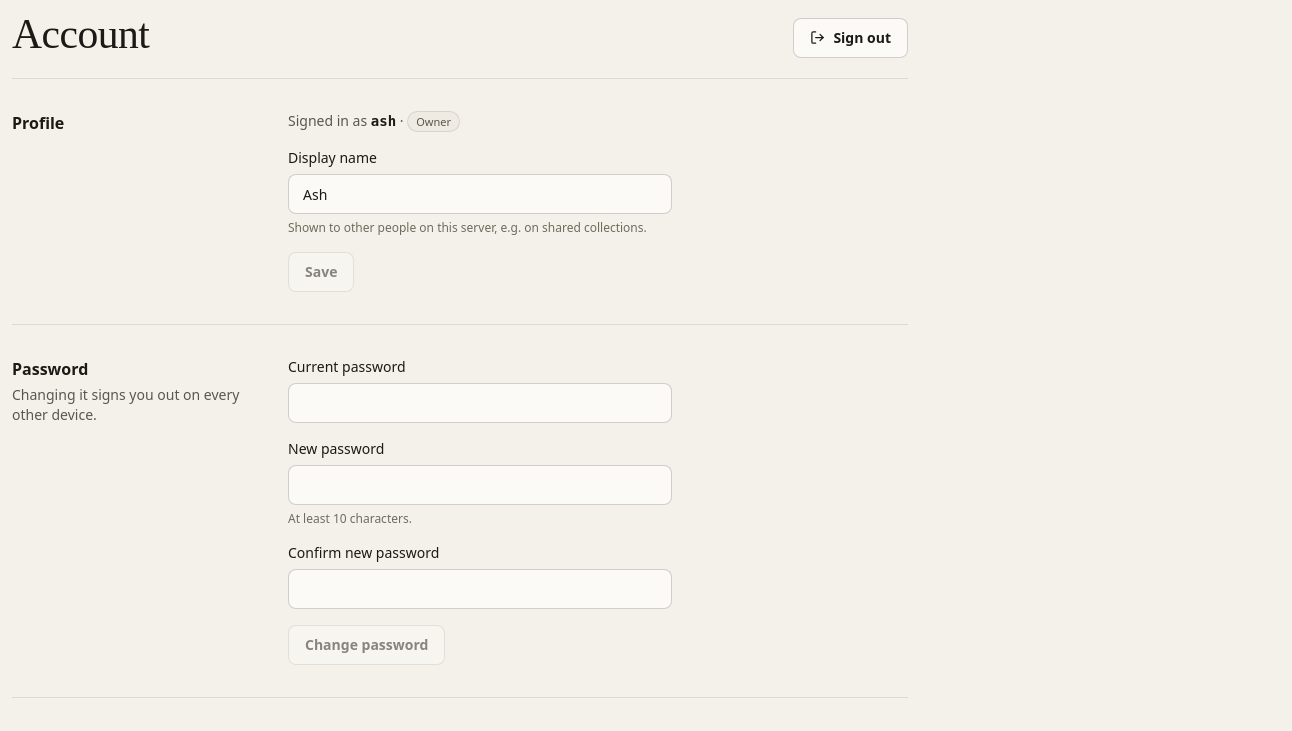
password › shows a wrong current password without signing out
The width and height of the screenshot is (1292, 731).
In the password field labelled "Current password": (480, 404) left=288, top=384, right=672, bottom=424, type "not it at all"
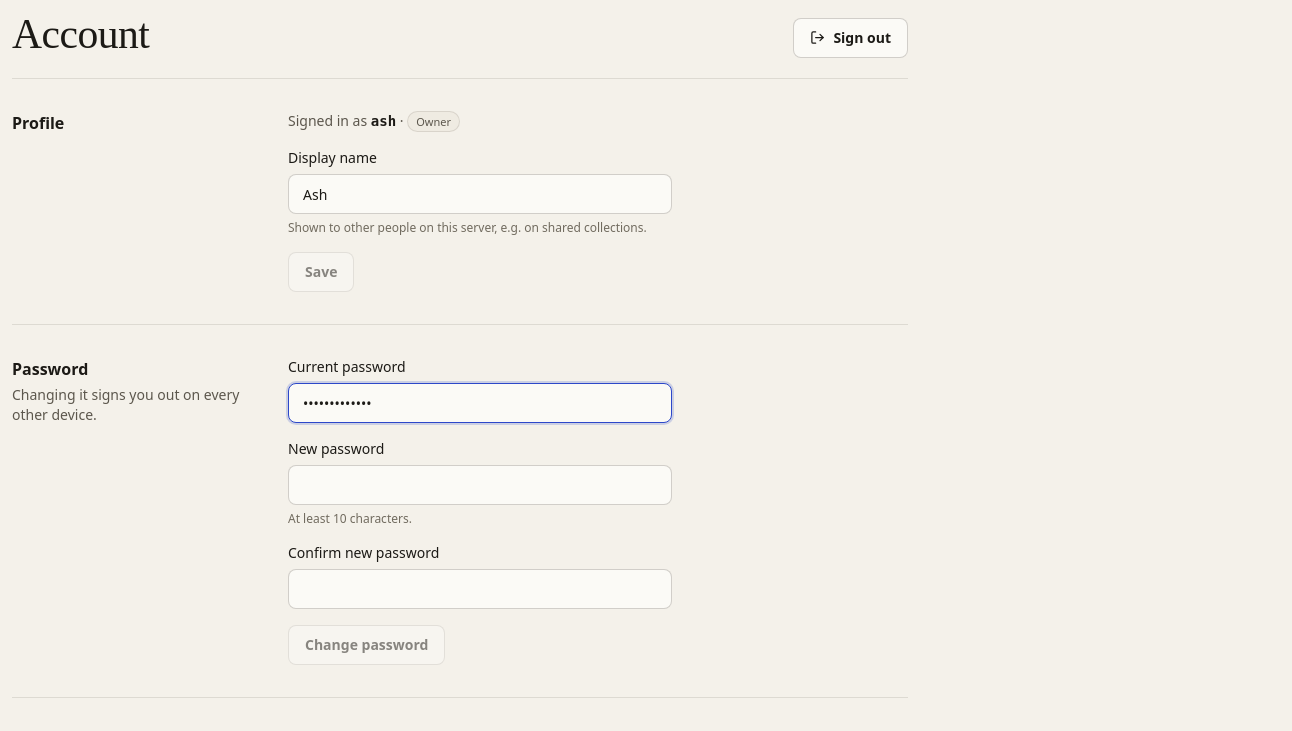
In the password field labelled "New password": (480, 486) left=288, top=466, right=672, bottom=506, type "a much better one"
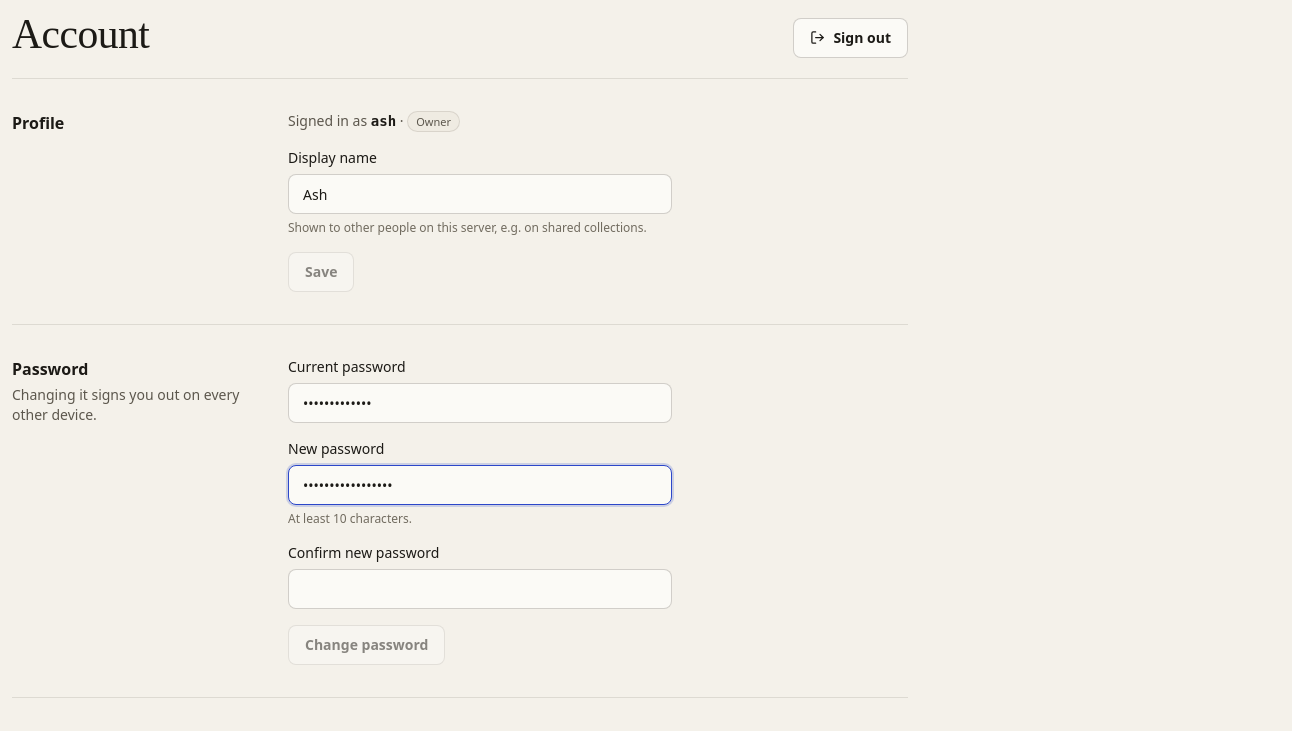
In the password field labelled "Confirm new password": (480, 590) left=288, top=570, right=672, bottom=610, type "a much better one"
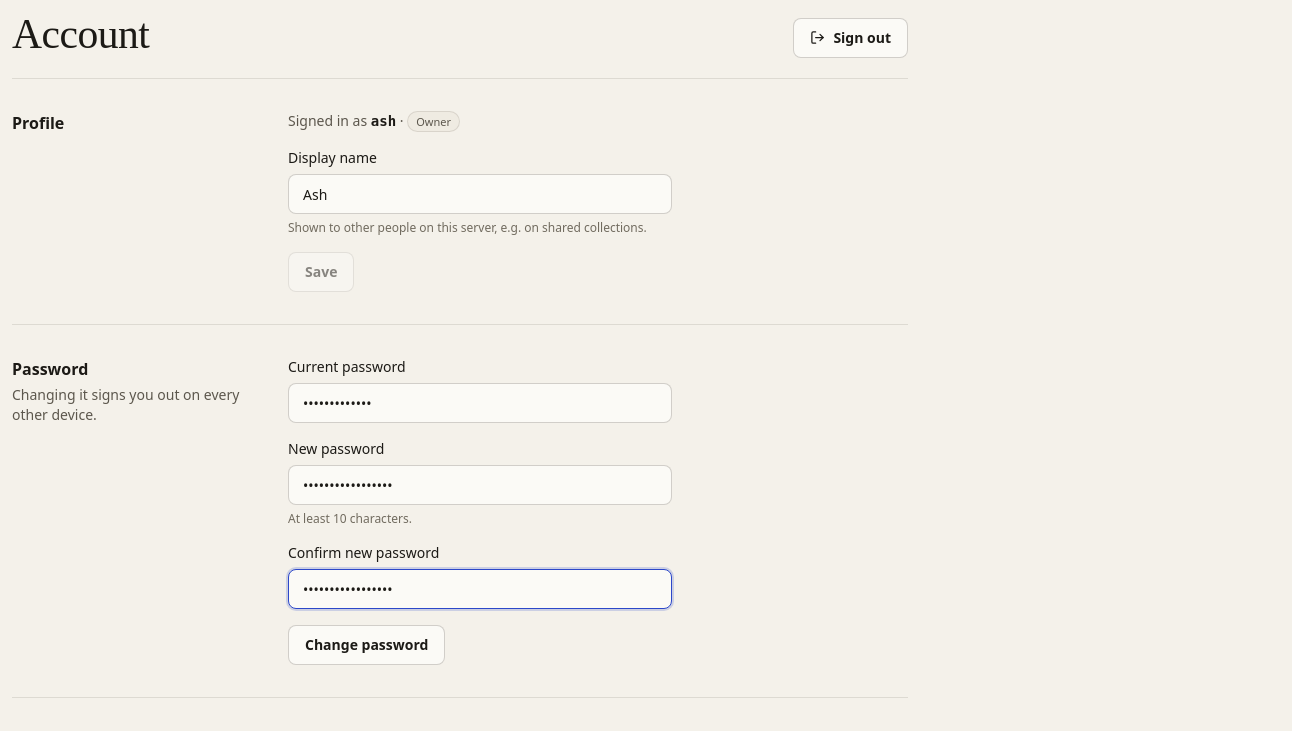
Click the button "Change password": (367, 646) left=288, top=626, right=445, bottom=666
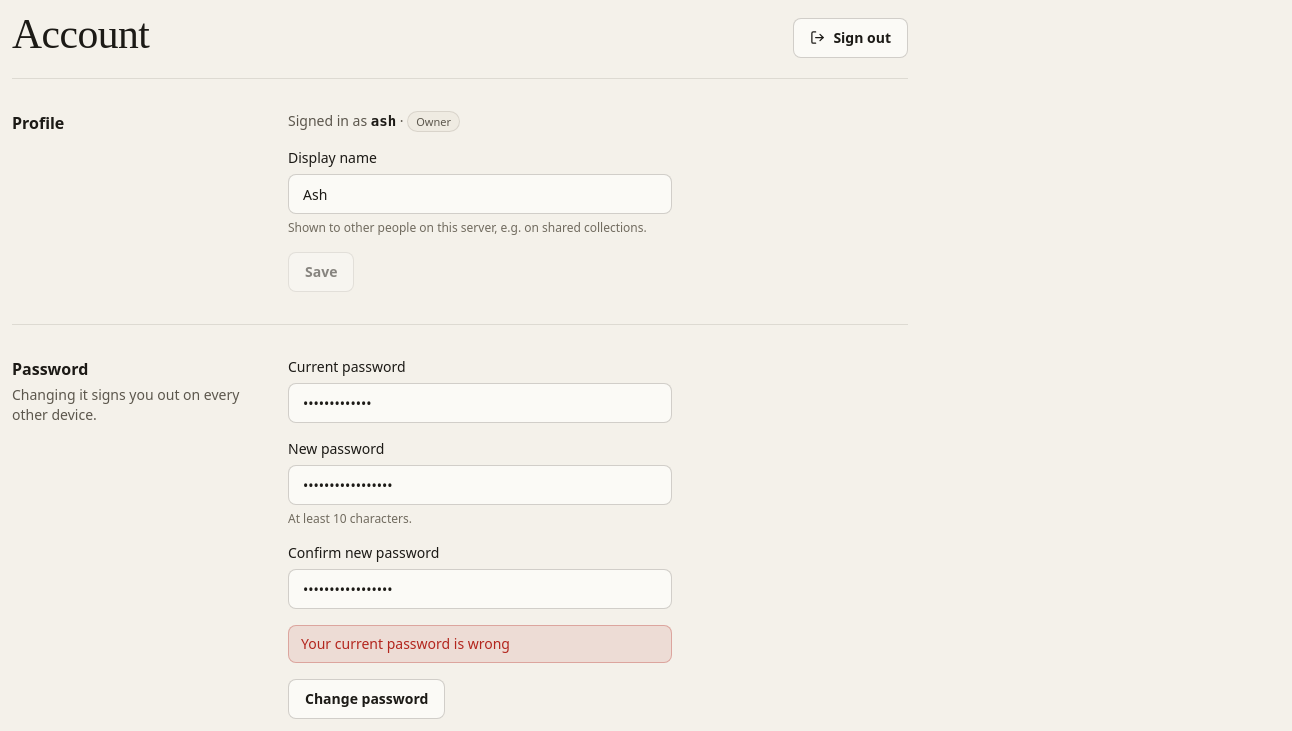
Result: the message shows "current password is wrong" at left=301, top=634, right=510, bottom=654
